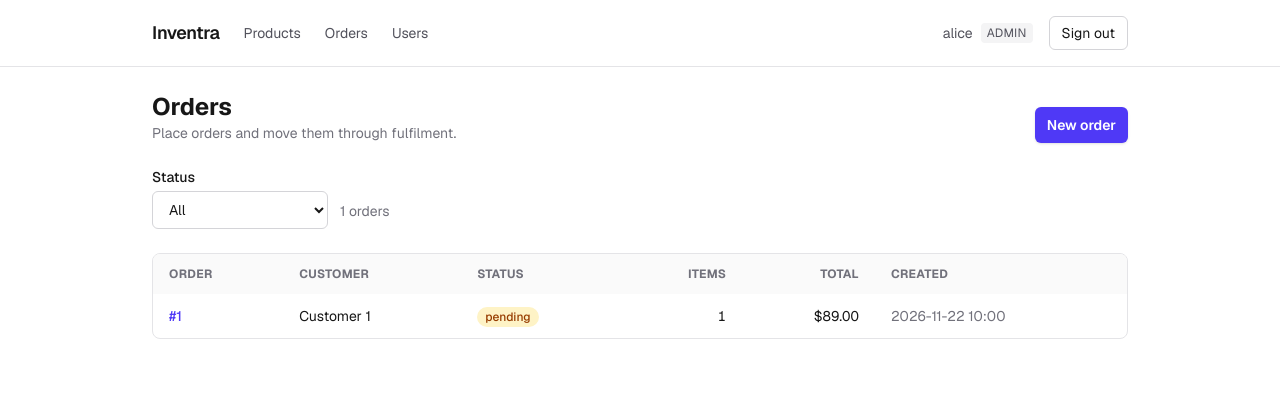
Test: OrdersPage › shows the backend's message when filtering fails
This screenshot has width=1280, height=400.
Expected: the link "#1" is shown, [169,307,182,325]
Select "paid" in the dropdown labelled "Status" at (240,210), box [152,191,328,229]
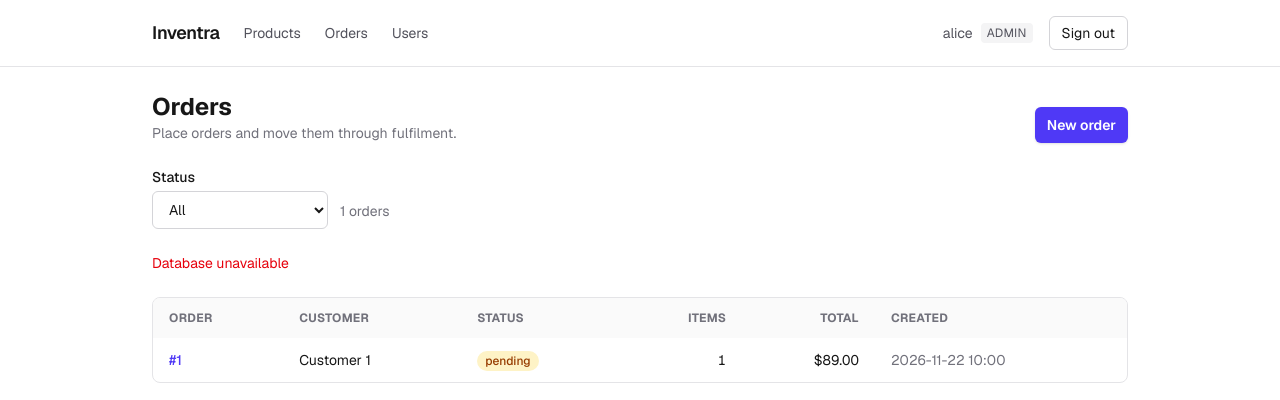
Expected: the message reads "Database unavailable", [152,254,289,272]
